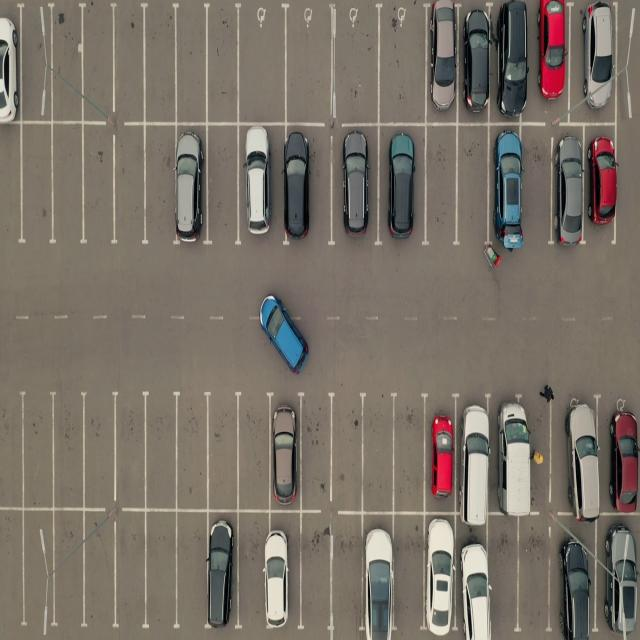space-empty: (375, 4, 425, 125), (237, 5, 288, 123), (286, 7, 337, 124), (332, 6, 380, 124), (46, 512, 88, 630), (47, 4, 86, 122), (16, 127, 54, 248), (204, 5, 242, 124), (142, 4, 180, 123), (175, 4, 212, 124), (49, 128, 86, 248), (78, 392, 116, 508), (78, 129, 115, 248), (112, 129, 149, 248), (331, 514, 367, 636), (176, 394, 214, 509), (79, 512, 116, 630), (205, 126, 242, 244), (17, 511, 54, 629), (111, 4, 148, 122), (518, 514, 555, 632), (392, 397, 429, 513), (50, 395, 87, 511), (17, 390, 54, 506), (237, 393, 274, 508), (142, 512, 178, 630), (78, 2, 114, 120), (457, 126, 492, 247), (143, 394, 180, 508), (115, 396, 152, 510), (115, 511, 150, 631), (141, 124, 176, 244), (358, 399, 395, 512), (329, 395, 366, 507), (205, 394, 241, 509), (423, 123, 457, 243), (234, 512, 268, 632), (296, 395, 332, 508), (15, 4, 50, 120), (296, 513, 330, 632), (394, 514, 427, 636), (177, 511, 210, 631), (486, 516, 519, 635), (523, 125, 555, 244), (0, 386, 24, 506), (0, 510, 24, 630), (0, 127, 22, 248)
space-occupied: (489, 391, 536, 514), (282, 128, 330, 248), (553, 394, 600, 516), (570, 2, 617, 122), (552, 517, 598, 637), (382, 123, 428, 240), (332, 129, 378, 245), (240, 124, 283, 246), (532, 0, 572, 120), (458, 392, 497, 514), (600, 518, 640, 636), (602, 398, 640, 518), (422, 393, 459, 513), (422, 514, 458, 637), (493, 3, 529, 123), (424, 5, 460, 124), (458, 518, 494, 637), (488, 125, 522, 248), (176, 128, 210, 248), (361, 514, 394, 637), (266, 512, 300, 631), (267, 392, 302, 507), (552, 127, 587, 242), (462, 7, 495, 124), (205, 510, 237, 630), (584, 127, 614, 236), (0, 5, 21, 123)
